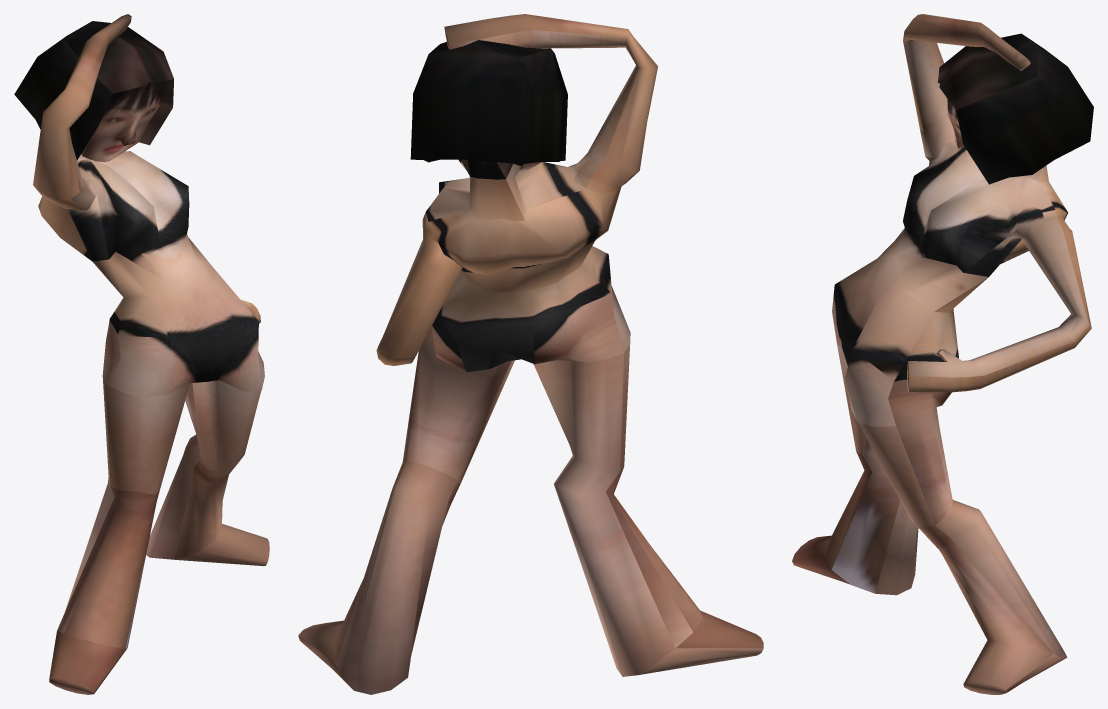
Rendered from female.fbx.
The picture shows the model from 3 angles, left to right: view 1: azimuth 30°, elevation 25°; view 2: azimuth 150°, elevation 25°; view 3: azimuth 270°, elevation 25°; orthographic projection. The views are drawn at different scales.
Visible parts, largest first — view 1: Cube.006; view 2: Cube.006; view 3: Cube.006.
Part boxes in pixels (x1,y1,x2,y2): Cube.006: (14, 14, 269, 694); Cube.006: (298, 14, 763, 694); Cube.006: (792, 14, 1093, 694).
Size of the model in its own units: 646 by 1162 by 537.
